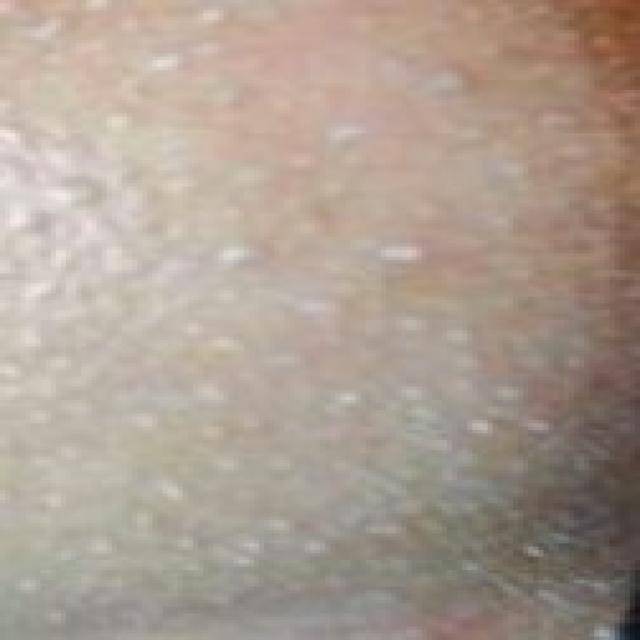whitehead: (40, 36, 604, 426)
